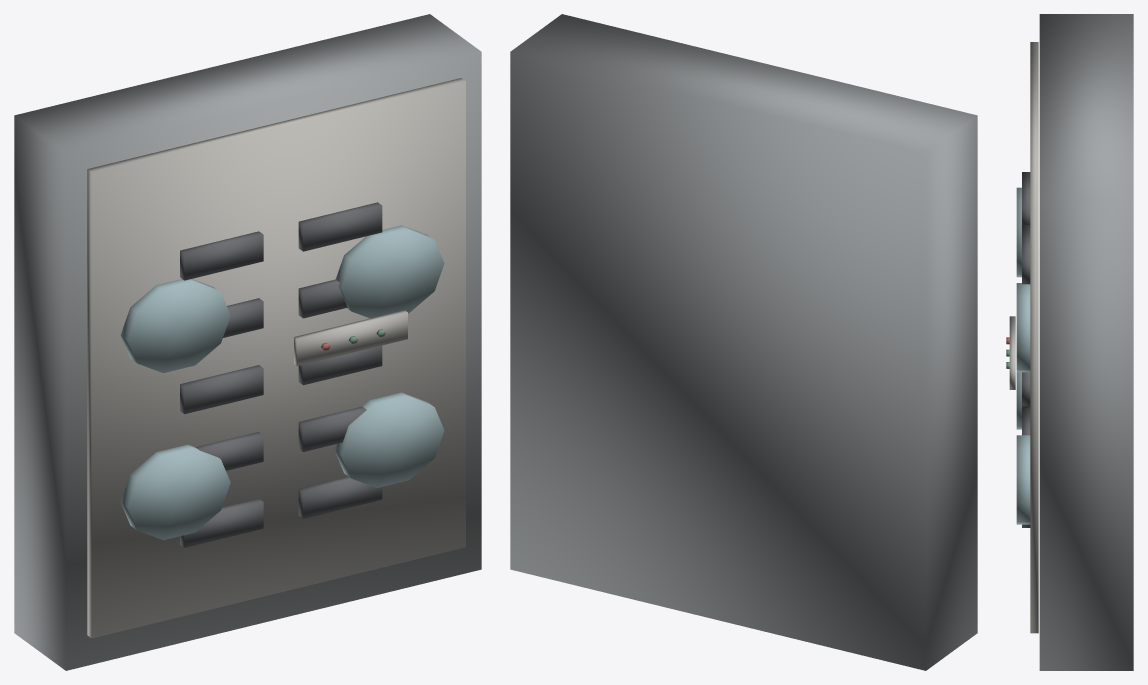
Rendered from meter_bank__wide.glb.
3 views of the same model, side by side, from view 1: azimuth 30°, elevation 25°; view 2: azimuth 150°, elevation 25°; view 3: azimuth 270°, elevation 25° (orthographic). The views are drawn at different scales.
Parts seen in each view (by area): view 1: world; view 2: world; view 3: world.
Part boxes in pixels (x1,y1,x2,y2): world: (14,14,481,670); world: (510,14,977,670); world: (1006,14,1133,670).
Bounding box in the file's own units: 1.3 × 1.55 × 0.3785.
